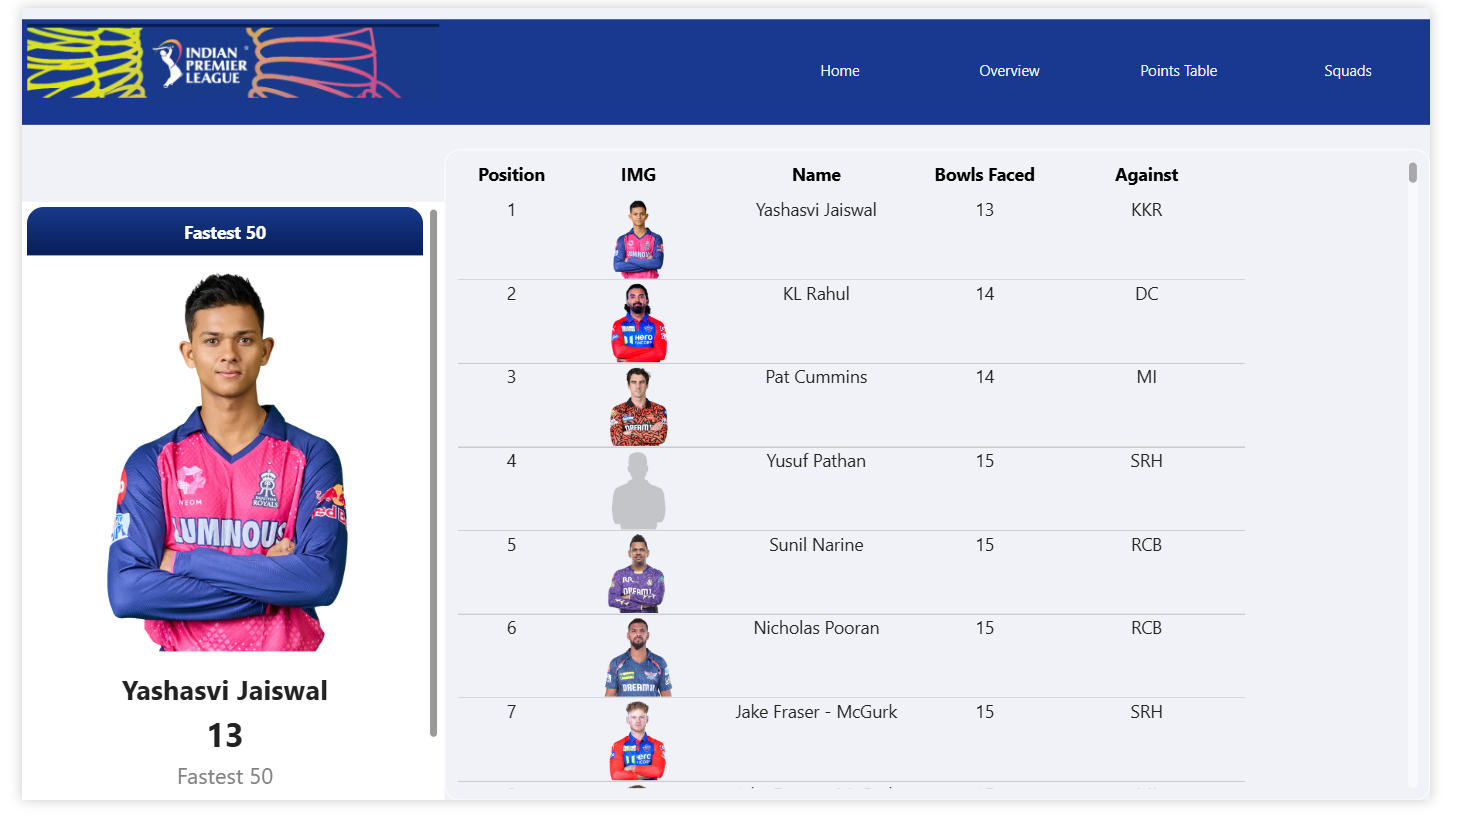

The dashboard page shown, as its layout file describes it:
{"tool":"powerbi","page":{"name":"Fastest 50","canvas":[1280,720],"ordinal":7},"visuals":[{"type":"shape","box":[0,10,1280,96],"z":0},{"type":"pageNavigator","box":[672,32,608,48],"z":1000},{"type":"htmlContent443BE3AD55E043BF878BED274D3A6855","fields":{"content":["Records.Top_Players"]},"box":[0,176,384,544],"z":2000},{"type":"image","box":[0,0,384,96],"z":3000},{"type":"tableEx","fields":{"Values":["Fast50.Position","Fast50.IMG","Fast50.Name","Fast50.Bowl","Fast50.Against"]},"box":[384,128,896,592],"z":4000}]}

Visuals, with their boxes in screenshot pixels (x1, y1, x2, y2), scaled from the page's 1280x720 canvas onto the 1466x818 screenshot:
shape: <box>0,11,1465,120</box>
pageNavigator: <box>770,36,1465,91</box>
htmlContent443BE3AD55E043BF878BED274D3A6855 - Records.Top_Players: <box>0,200,440,817</box>
image: <box>0,0,440,109</box>
tableEx - Fast50.Position x Fast50.IMG: <box>440,145,1465,817</box>
